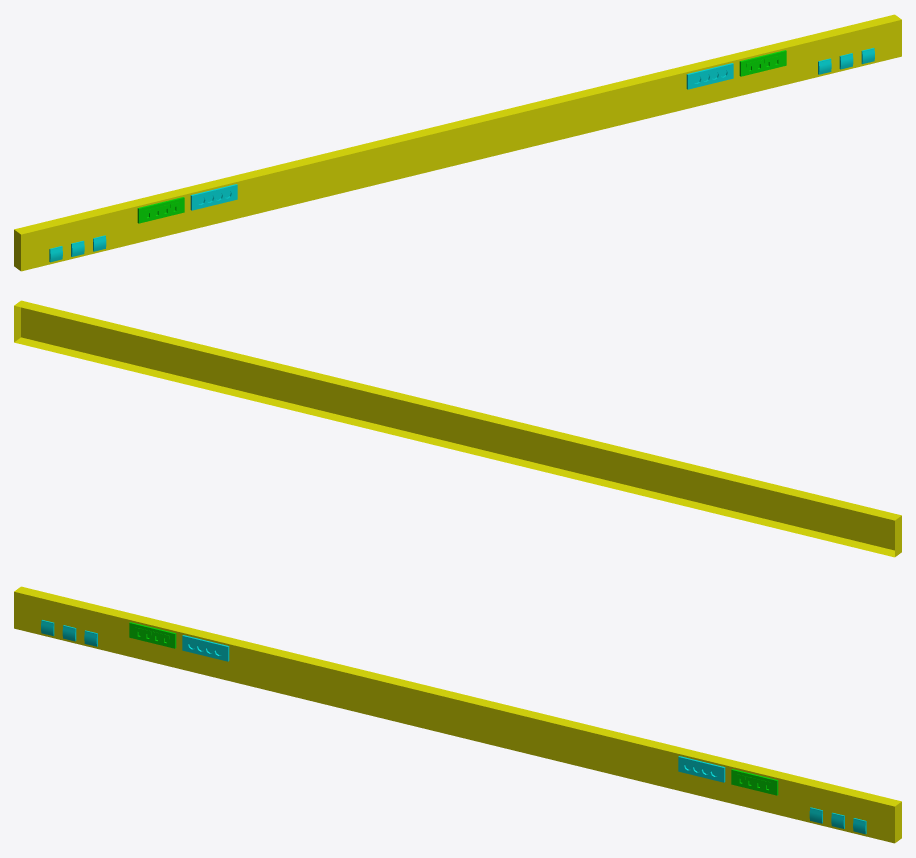
The model's file is CosaPared_LowPoly_v1.fbx.
3 renders of one model, top to bottom at view 1: azimuth 30°, elevation 25°; view 2: azimuth 150°, elevation 25°; view 3: azimuth 330°, elevation 25°, orthographic.
Parts seen in each view (by area): view 1: pCube1, polySurface69, polySurface67, polySurface68, polySurface70; view 2: pCube1; view 3: pCube1, polySurface70, polySurface67, polySurface68, polySurface69.
Part boxes in pixels (<box>): pCube1: <box>14,14,901,271</box>; polySurface69: <box>739,50,786,76</box>; polySurface67: <box>686,63,733,89</box>; polySurface68: <box>190,184,237,210</box>; polySurface70: <box>137,197,184,223</box>; pCube1: <box>14,300,901,557</box>; pCube1: <box>14,586,901,843</box>; polySurface70: <box>129,622,176,648</box>; polySurface67: <box>678,756,725,782</box>; polySurface68: <box>182,635,229,661</box>; polySurface69: <box>731,769,778,795</box>.
Size of the model in its own units: 5 by 0.2 by 0.0832.
